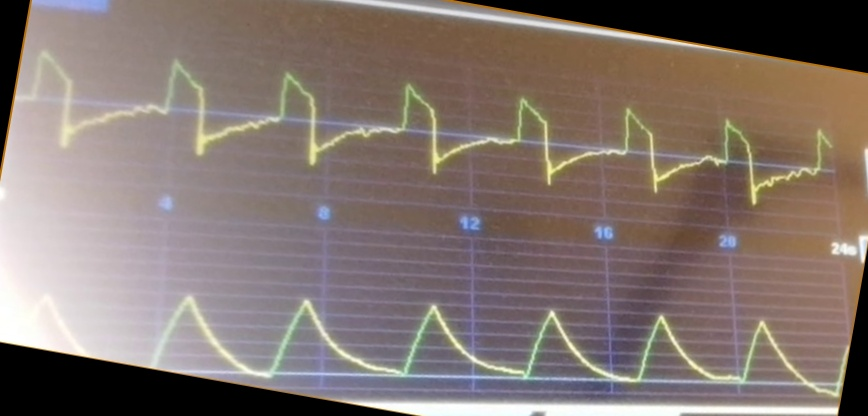Accumulation Flow: (25, 49, 776, 205)
Volume: (15, 290, 838, 398)
